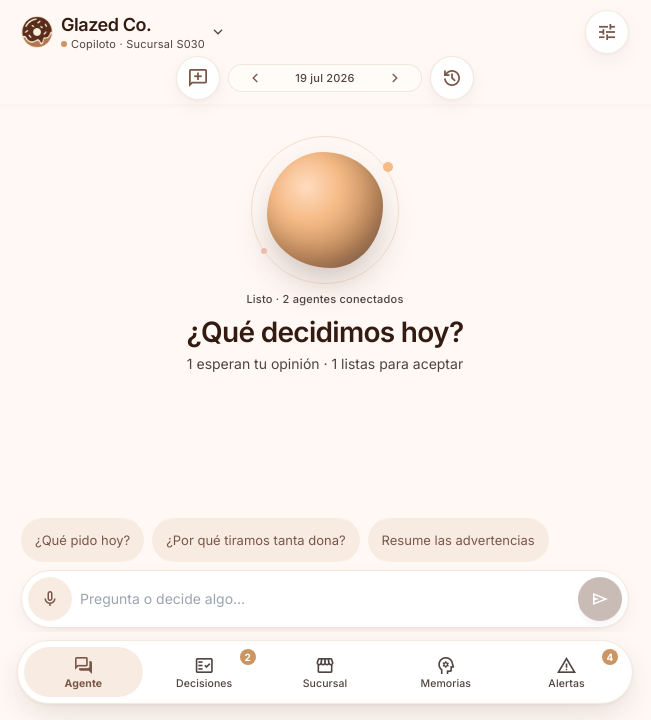
Scenario: Memorias window › shows the empty state (not 'Sin datos', not an error) when /memories returns []
Click the button "Memorias": {"x": 446, "y": 672} [386,647,505,697]
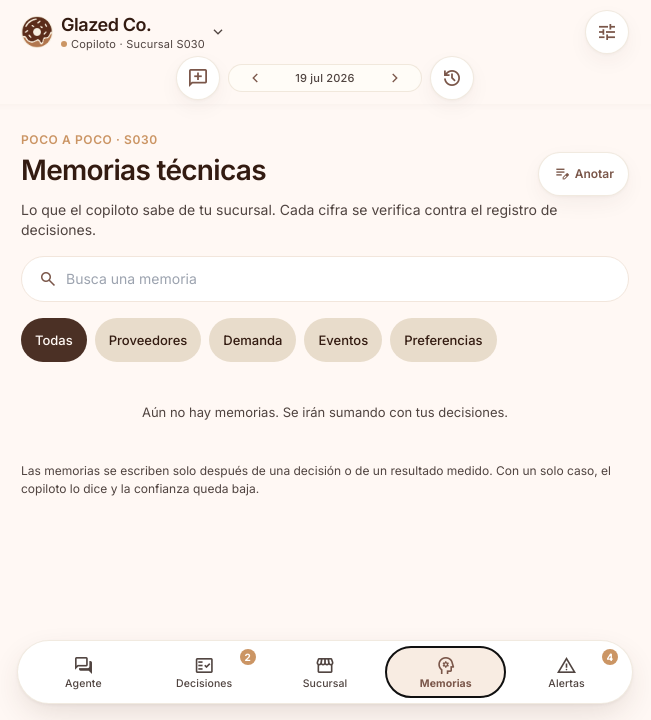
Check: the text "Aún no hay memorias. Se irán sumando con tus decisiones." is shown, box [142,404,508,420]
